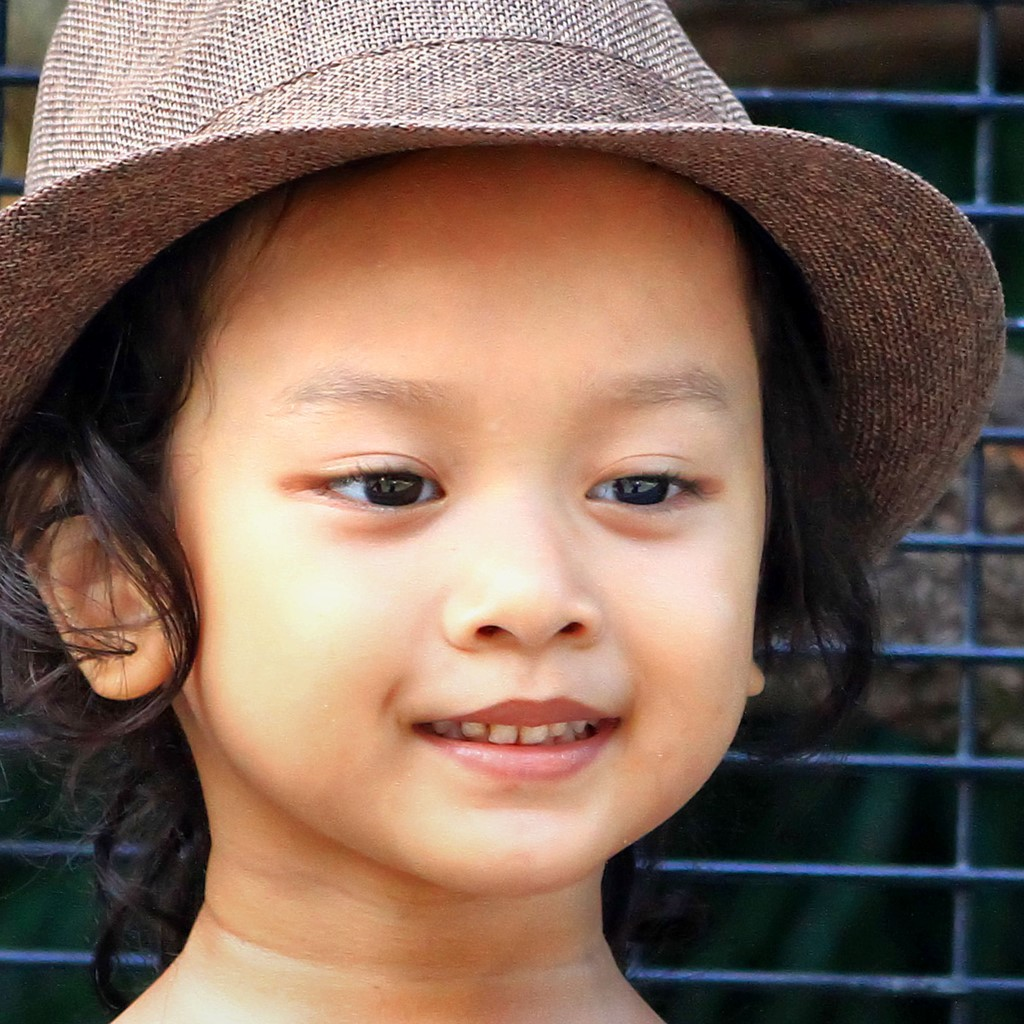sin_mascara: (46, 99, 766, 904)
